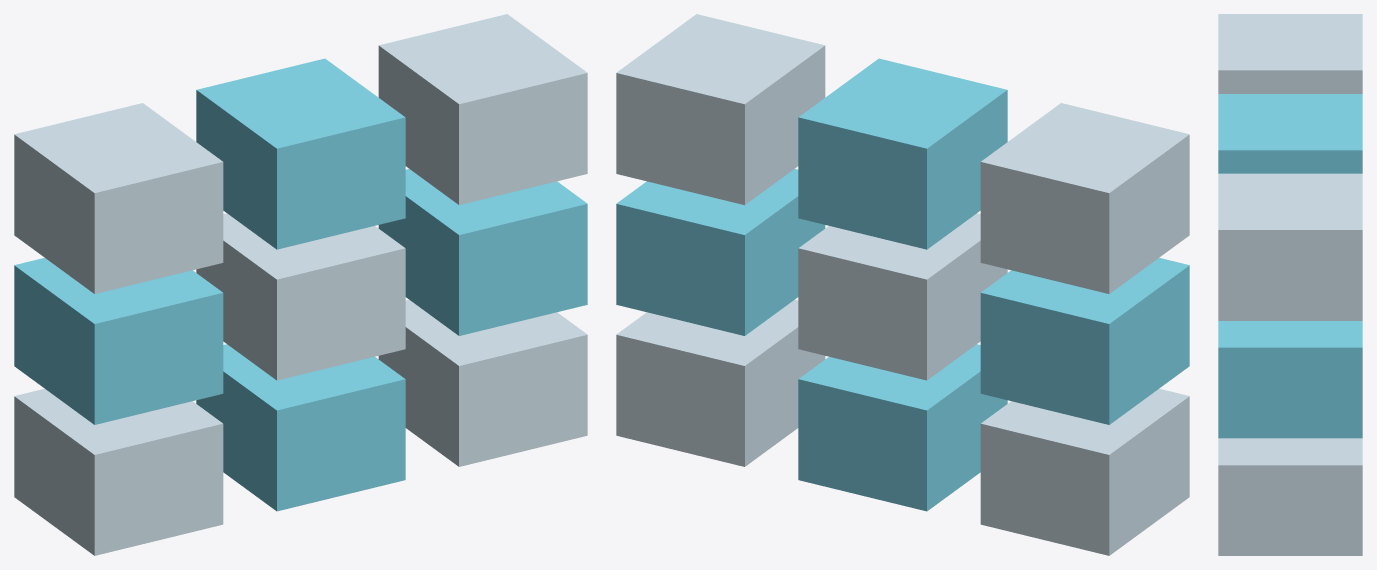
The model's file is 17_L69_TemperatureSensitiveCargoRack.fbx.
The picture shows the model from 3 angles, left to right: view 1: azimuth 30°, elevation 25°; view 2: azimuth 150°, elevation 25°; view 3: azimuth 270°, elevation 25°; orthographic projection. The views are drawn at different scales.
Parts seen in each view (by area): view 1: TemperatureSensitiveCargoRack; view 2: TemperatureSensitiveCargoRack; view 3: TemperatureSensitiveCargoRack.
Boxes of the visible parts, <box> form: TemperatureSensitiveCargoRack: <box>14,14,587,555</box>; TemperatureSensitiveCargoRack: <box>616,14,1189,555</box>; TemperatureSensitiveCargoRack: <box>1218,14,1362,555</box>.
Bounding box in the file's own units: 138 × 97 × 39.
